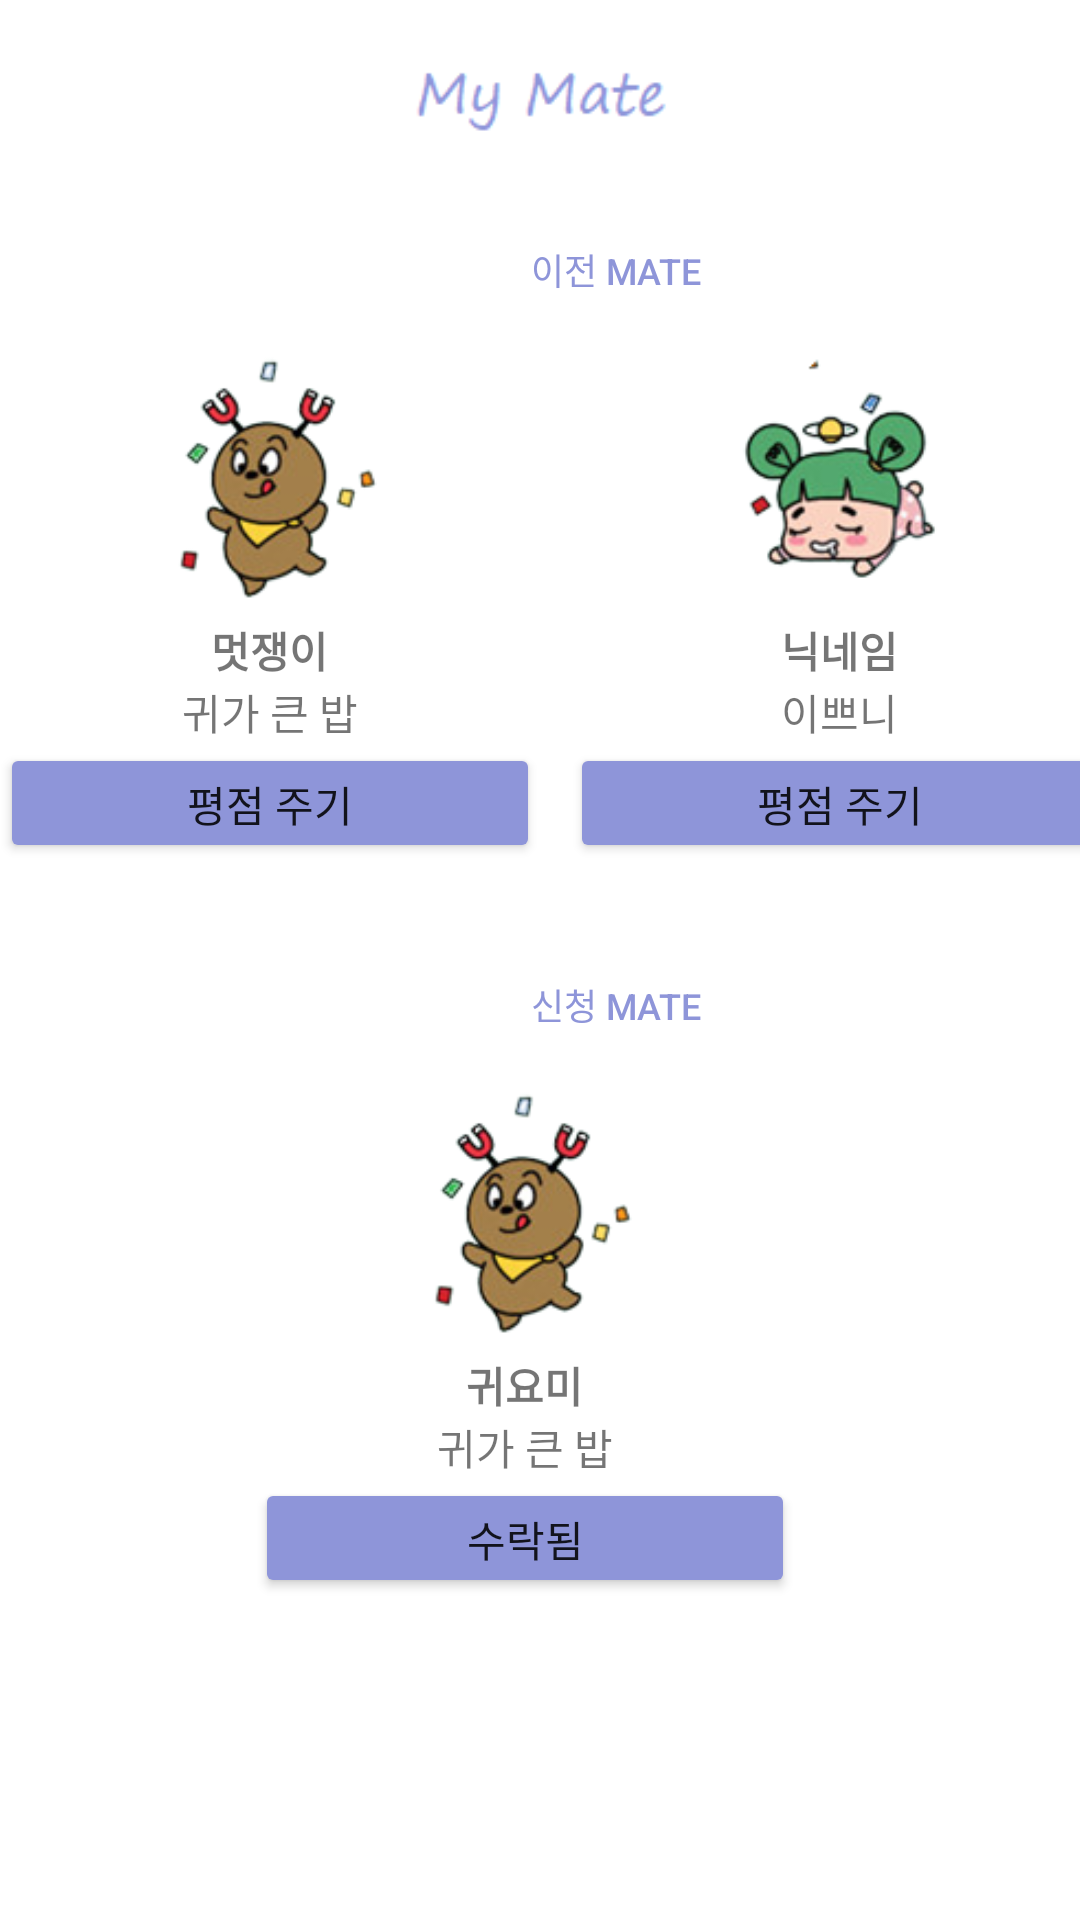

Icons on this 1080px x 1920px Android screen, each with its box as (x1, y1, x2, y2):
character: (745, 360, 935, 578), (180, 361, 375, 598), (435, 1096, 630, 1333)
